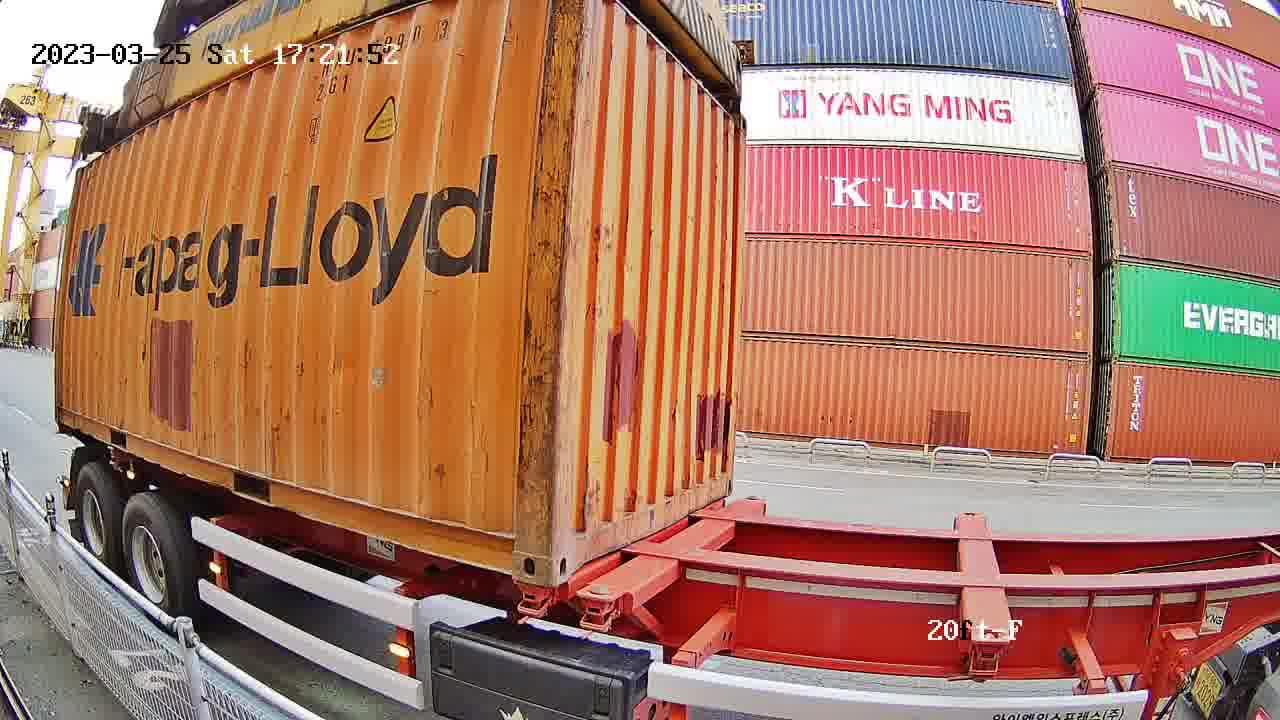Chassis: (579, 497, 766, 614)
Cone: (576, 586, 627, 637), (513, 579, 553, 625)
Hole_L: (553, 497, 598, 588)
Hole_R: (479, 506, 551, 587), (714, 455, 733, 499)
Tire: (124, 495, 188, 626), (75, 468, 118, 564)
